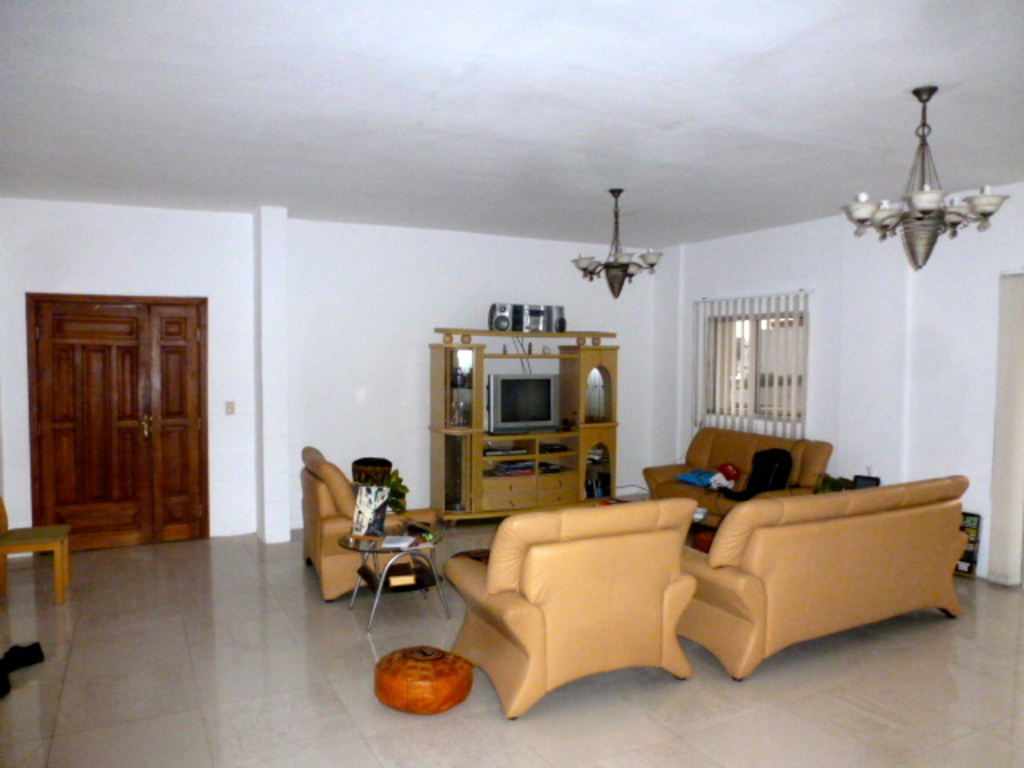Cabinetry: (21, 309, 206, 571), (432, 307, 635, 528)
